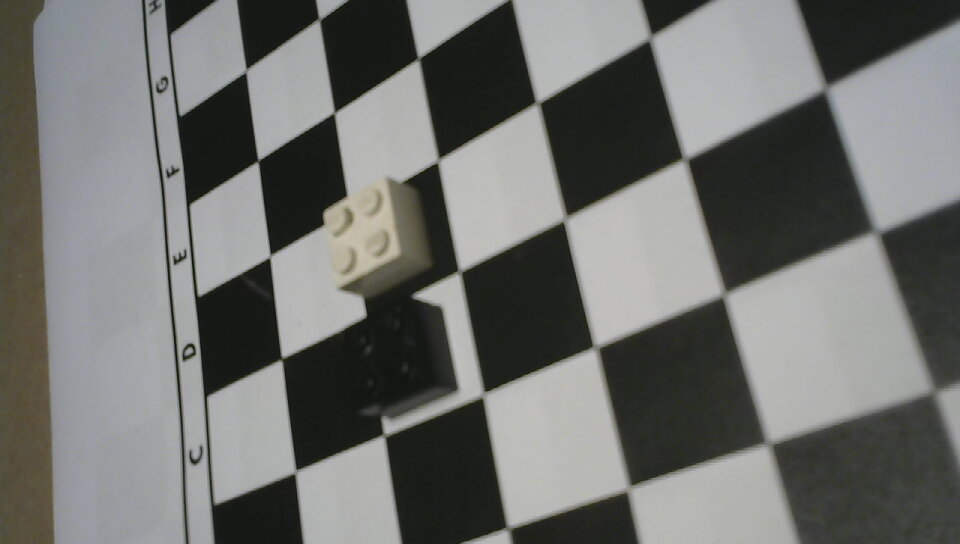wp: (299, 171, 441, 302)
